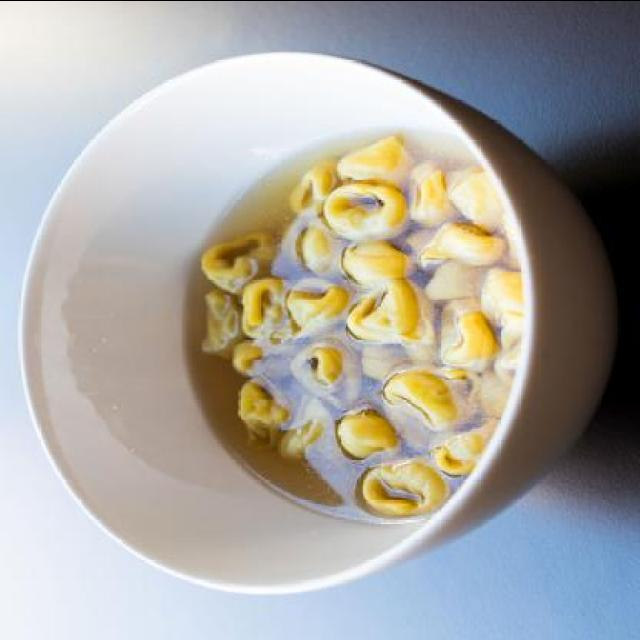Tortellini in broth: (194, 86, 506, 526)
